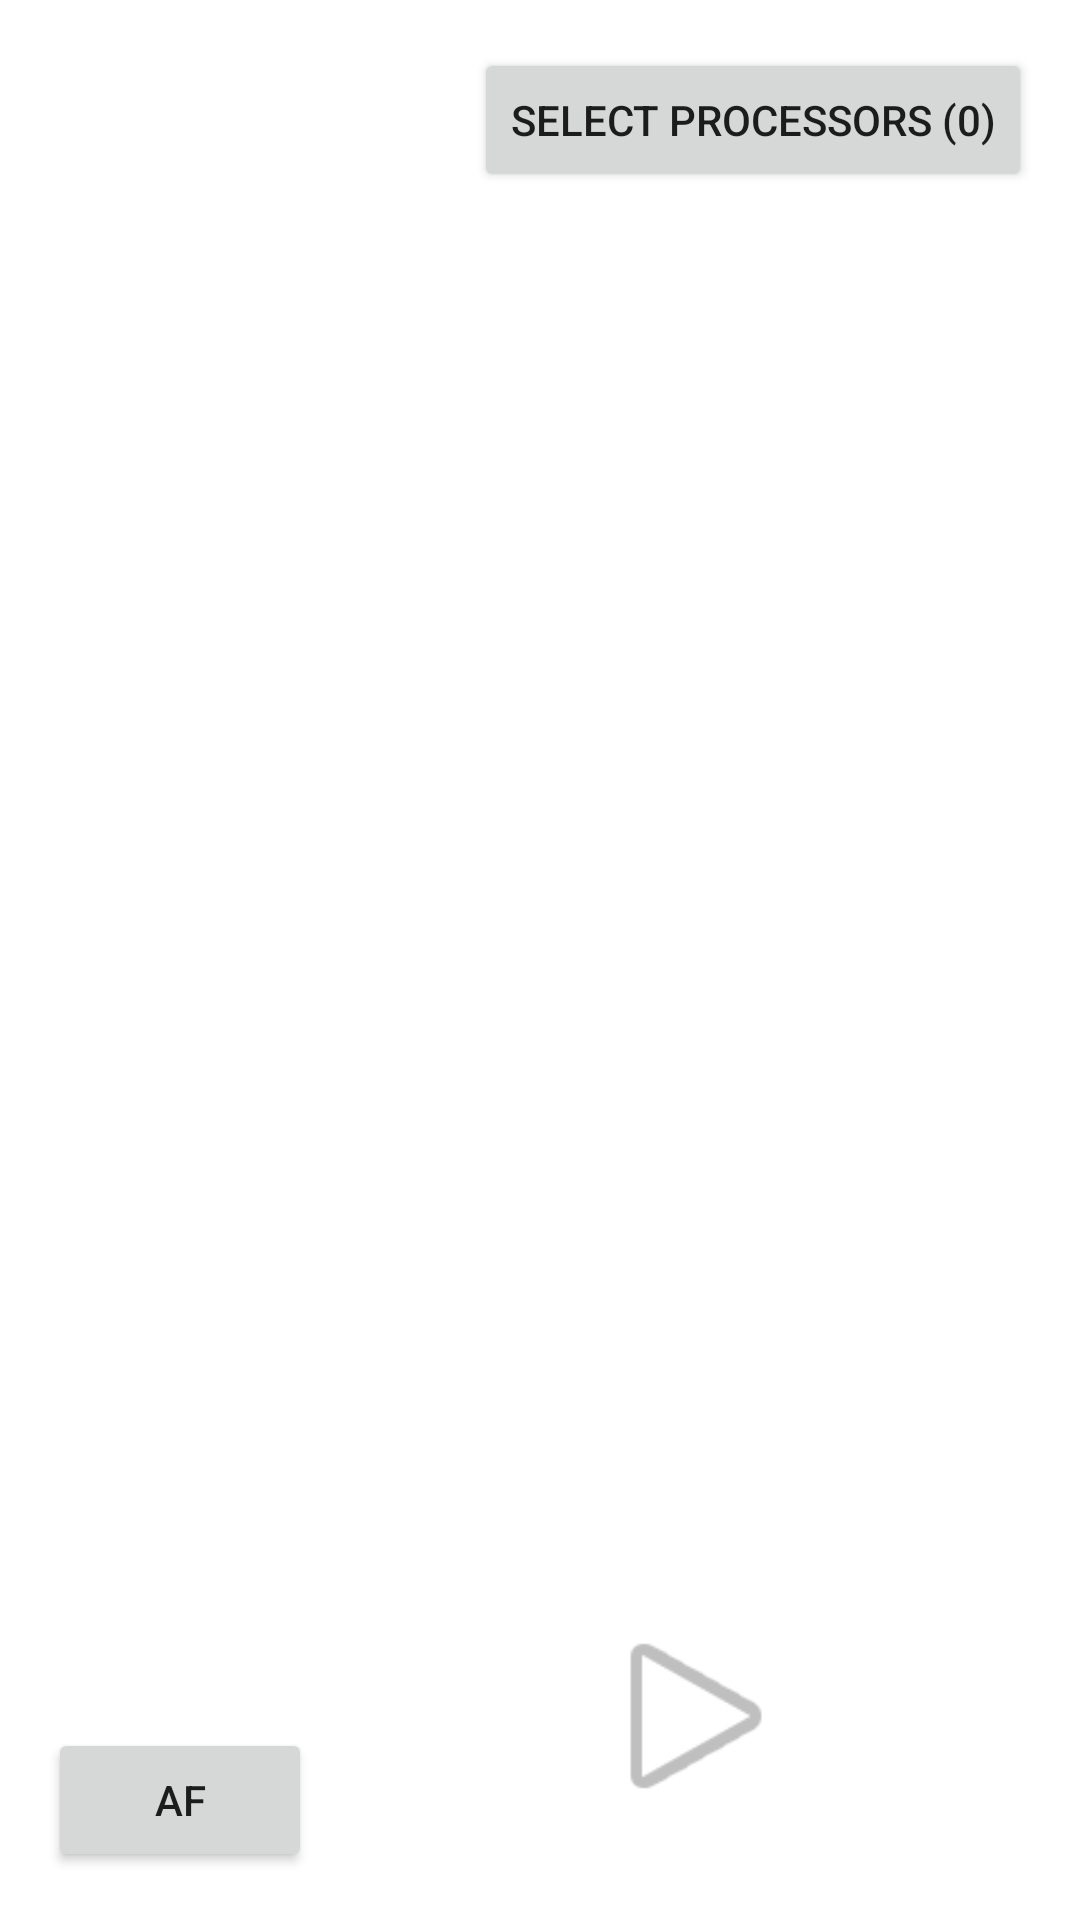

Point at icon controls on the screen. Image size 1080 x 1920, points as point (x, y).
play: point (696, 1716)
